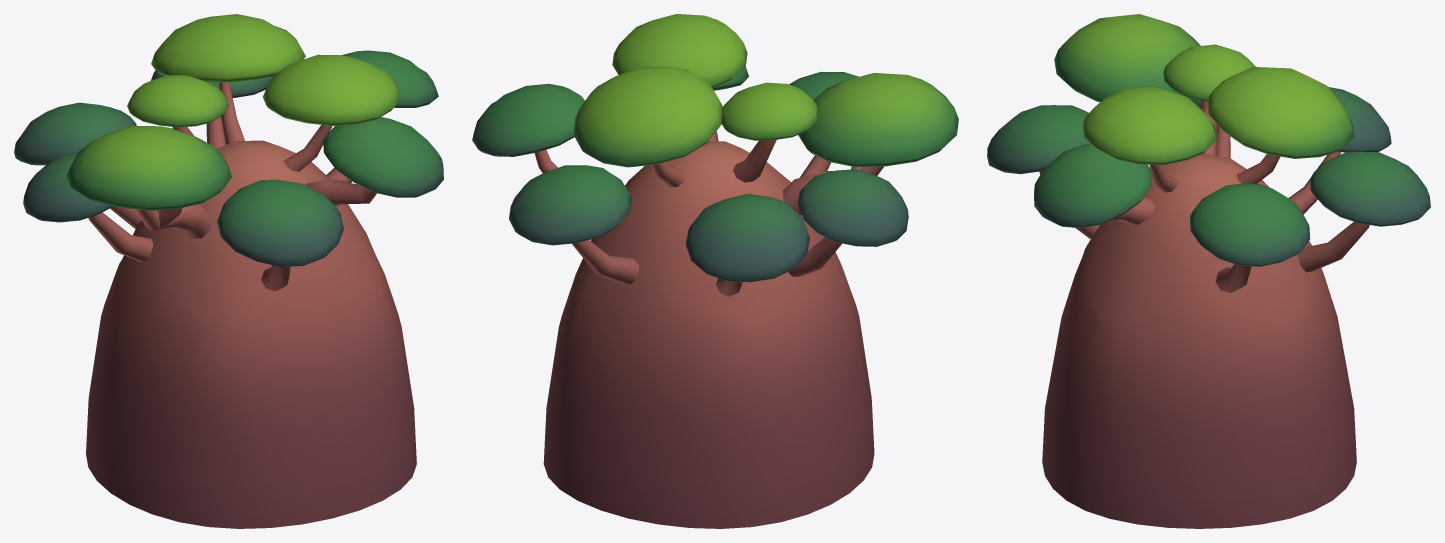
File: tree_pack_23.glb
3 views of the same model, side by side, from view 1: azimuth 30°, elevation 25°; view 2: azimuth 150°, elevation 25°; view 3: azimuth 270°, elevation 25° (orthographic). The views are drawn at different scales.
Parts seen in each view (by area): view 1: Tree.027; view 2: Tree.027; view 3: Tree.027.
Boxes of the visible parts, box(x1,y1,x2,y2) form: Tree.027: box(14, 14, 443, 528); Tree.027: box(472, 14, 958, 528); Tree.027: box(987, 14, 1430, 528).
Size of the model in its own units: 5.25 by 4.94 by 5.06.
Materials: 1 (1 with a texture image).
